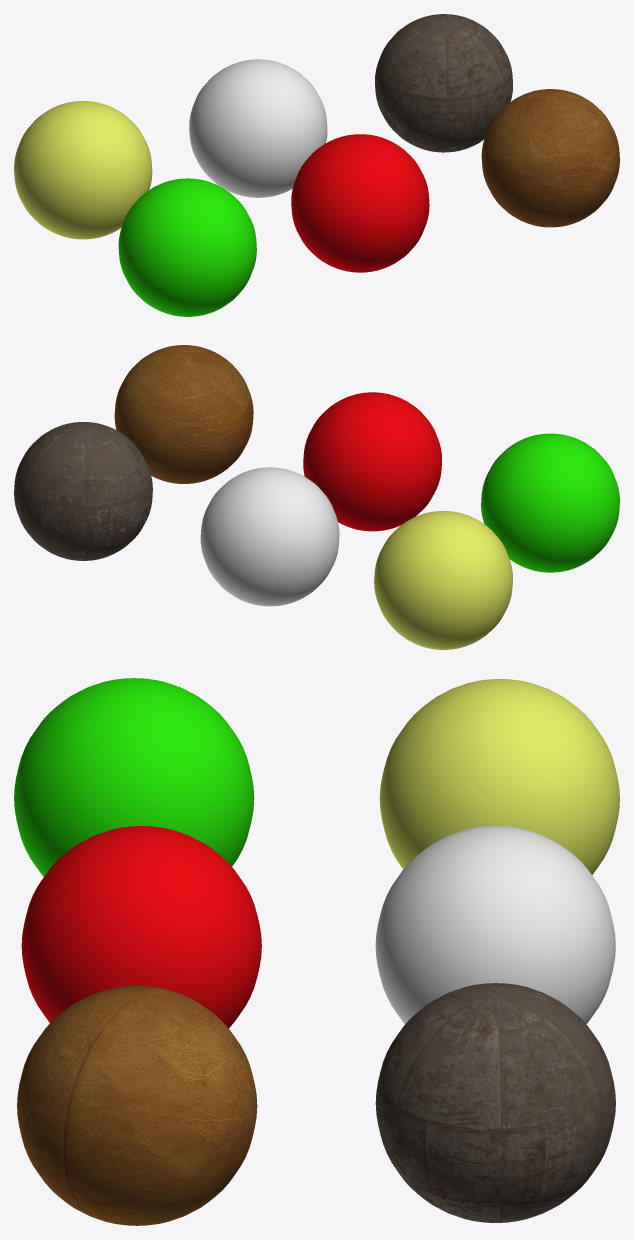
Rendered from PBR1.glb.
3 renders of one model, top to bottom at view 1: azimuth 30°, elevation 25°; view 2: azimuth 150°, elevation 25°; view 3: azimuth 270°, elevation 25°, orthographic. The views are drawn at different scales.
Visible parts, largest first — view 1: Sphere.003, Sphere, Sphere.001, Sphere.004, Sphere.005, Sphere.002; view 2: Sphere.002, Sphere.005, Sphere.004, Sphere.001, Sphere.003, Sphere; view 3: Sphere.004, Sphere, Sphere.003, Sphere.002, Sphere.001, Sphere.005.
Part boxes in pixels (x1,y1,x2,y2): Sphere.003: (291,134,429,272); Sphere: (481,89,619,227); Sphere.001: (118,178,256,316); Sphere.004: (375,14,513,152); Sphere.005: (14,101,152,239); Sphere.002: (189,59,327,197); Sphere.002: (200,467,339,606); Sphere.005: (374,511,512,649); Sphere.004: (14,422,152,560); Sphere.001: (481,433,619,572); Sphere.003: (303,392,441,531); Sphere: (114,345,253,483); Sphere.004: (375,983,615,1222); Sphere: (17,986,257,1225); Sphere.003: (21,826,261,1028); Sphere.002: (375,826,615,1024); Sphere.001: (14,678,254,876); Sphere.005: (379,679,619,874).
Size of the model in its own units: 8.06 by 2 by 5.04.
Materials: 6 (2 with a texture image).
